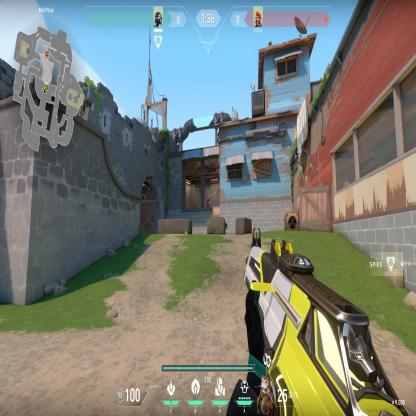enemy: (205, 192, 210, 208)
